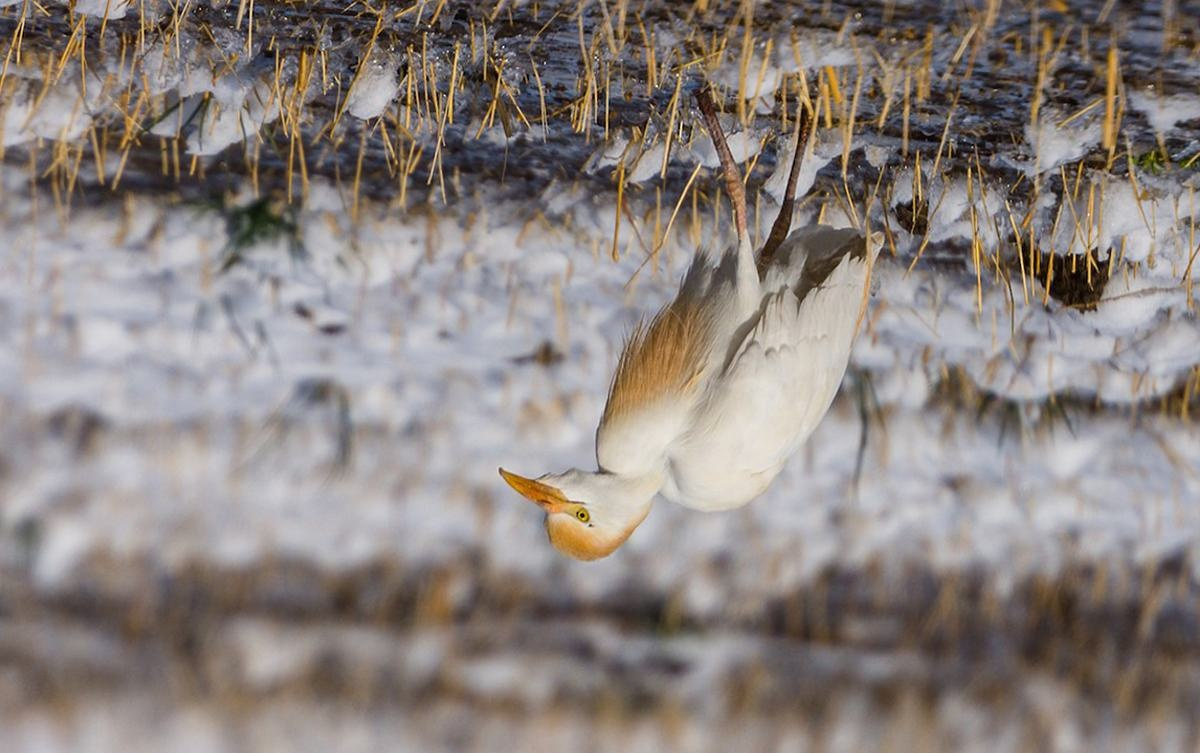egret: (490, 6, 945, 600)
